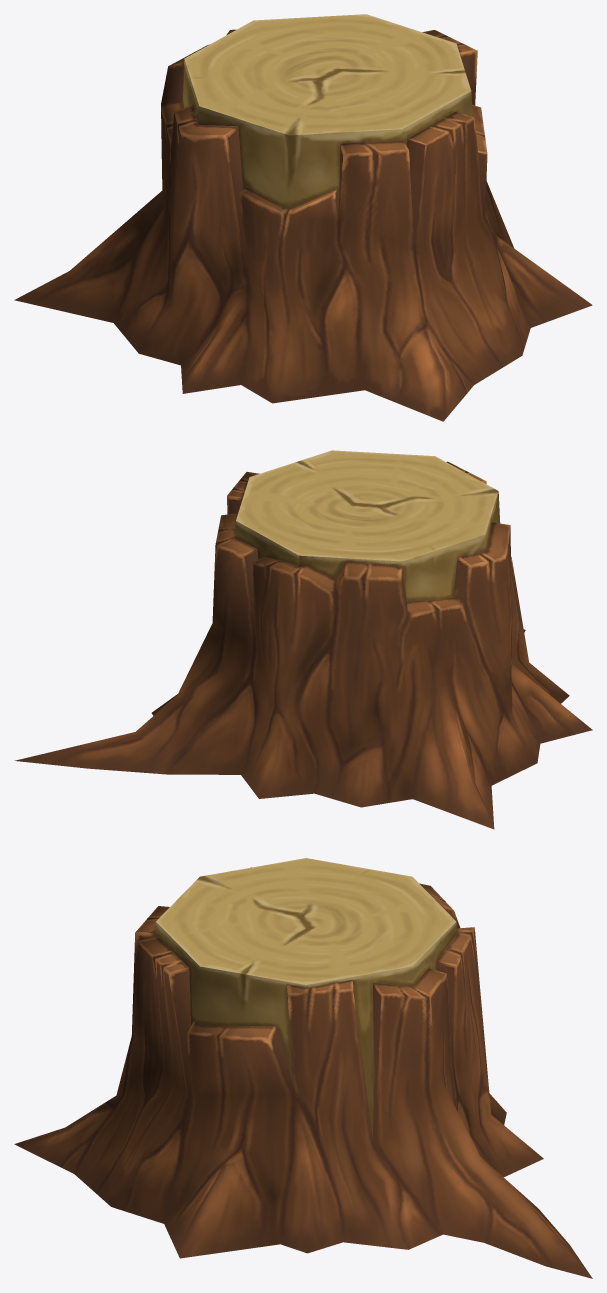
Rendered from ppsStump.FBX.
3 views of the same model, one above another, from view 1: azimuth 30°, elevation 25°; view 2: azimuth 150°, elevation 25°; view 3: azimuth 270°, elevation 25° (orthographic). The views are drawn at different scales.
Visible parts, largest first — view 1: ppsStump; view 2: ppsStump; view 3: ppsStump.
Part boxes in pixels (<box>): ppsStump: <box>14,14,592,421</box>; ppsStump: <box>14,450,592,829</box>; ppsStump: <box>14,858,592,1278</box>.
Size of the model in its own units: 183 by 86.97 by 193.
